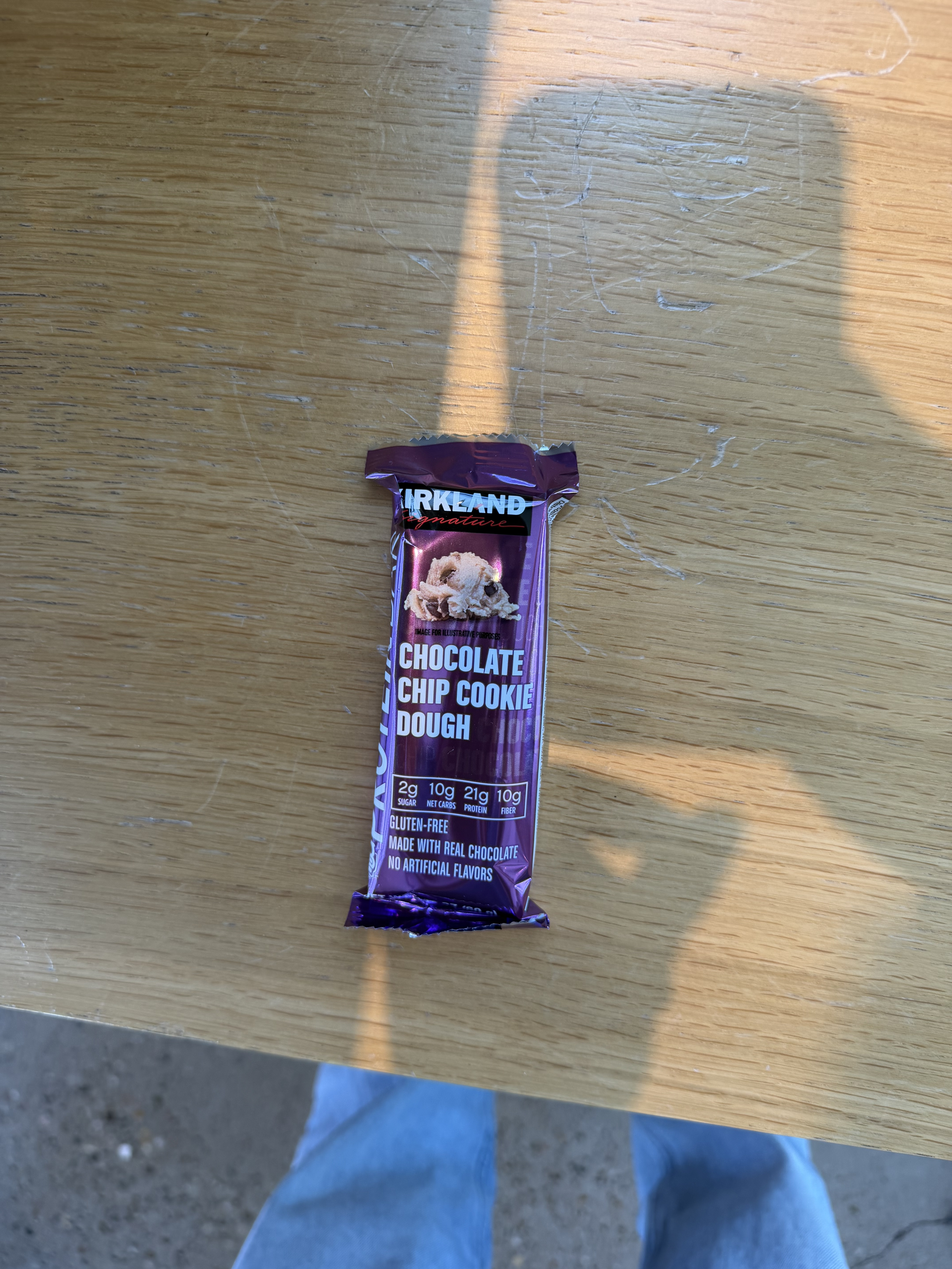chocolate_chip_cookie_dough: (316, 414, 589, 953)
